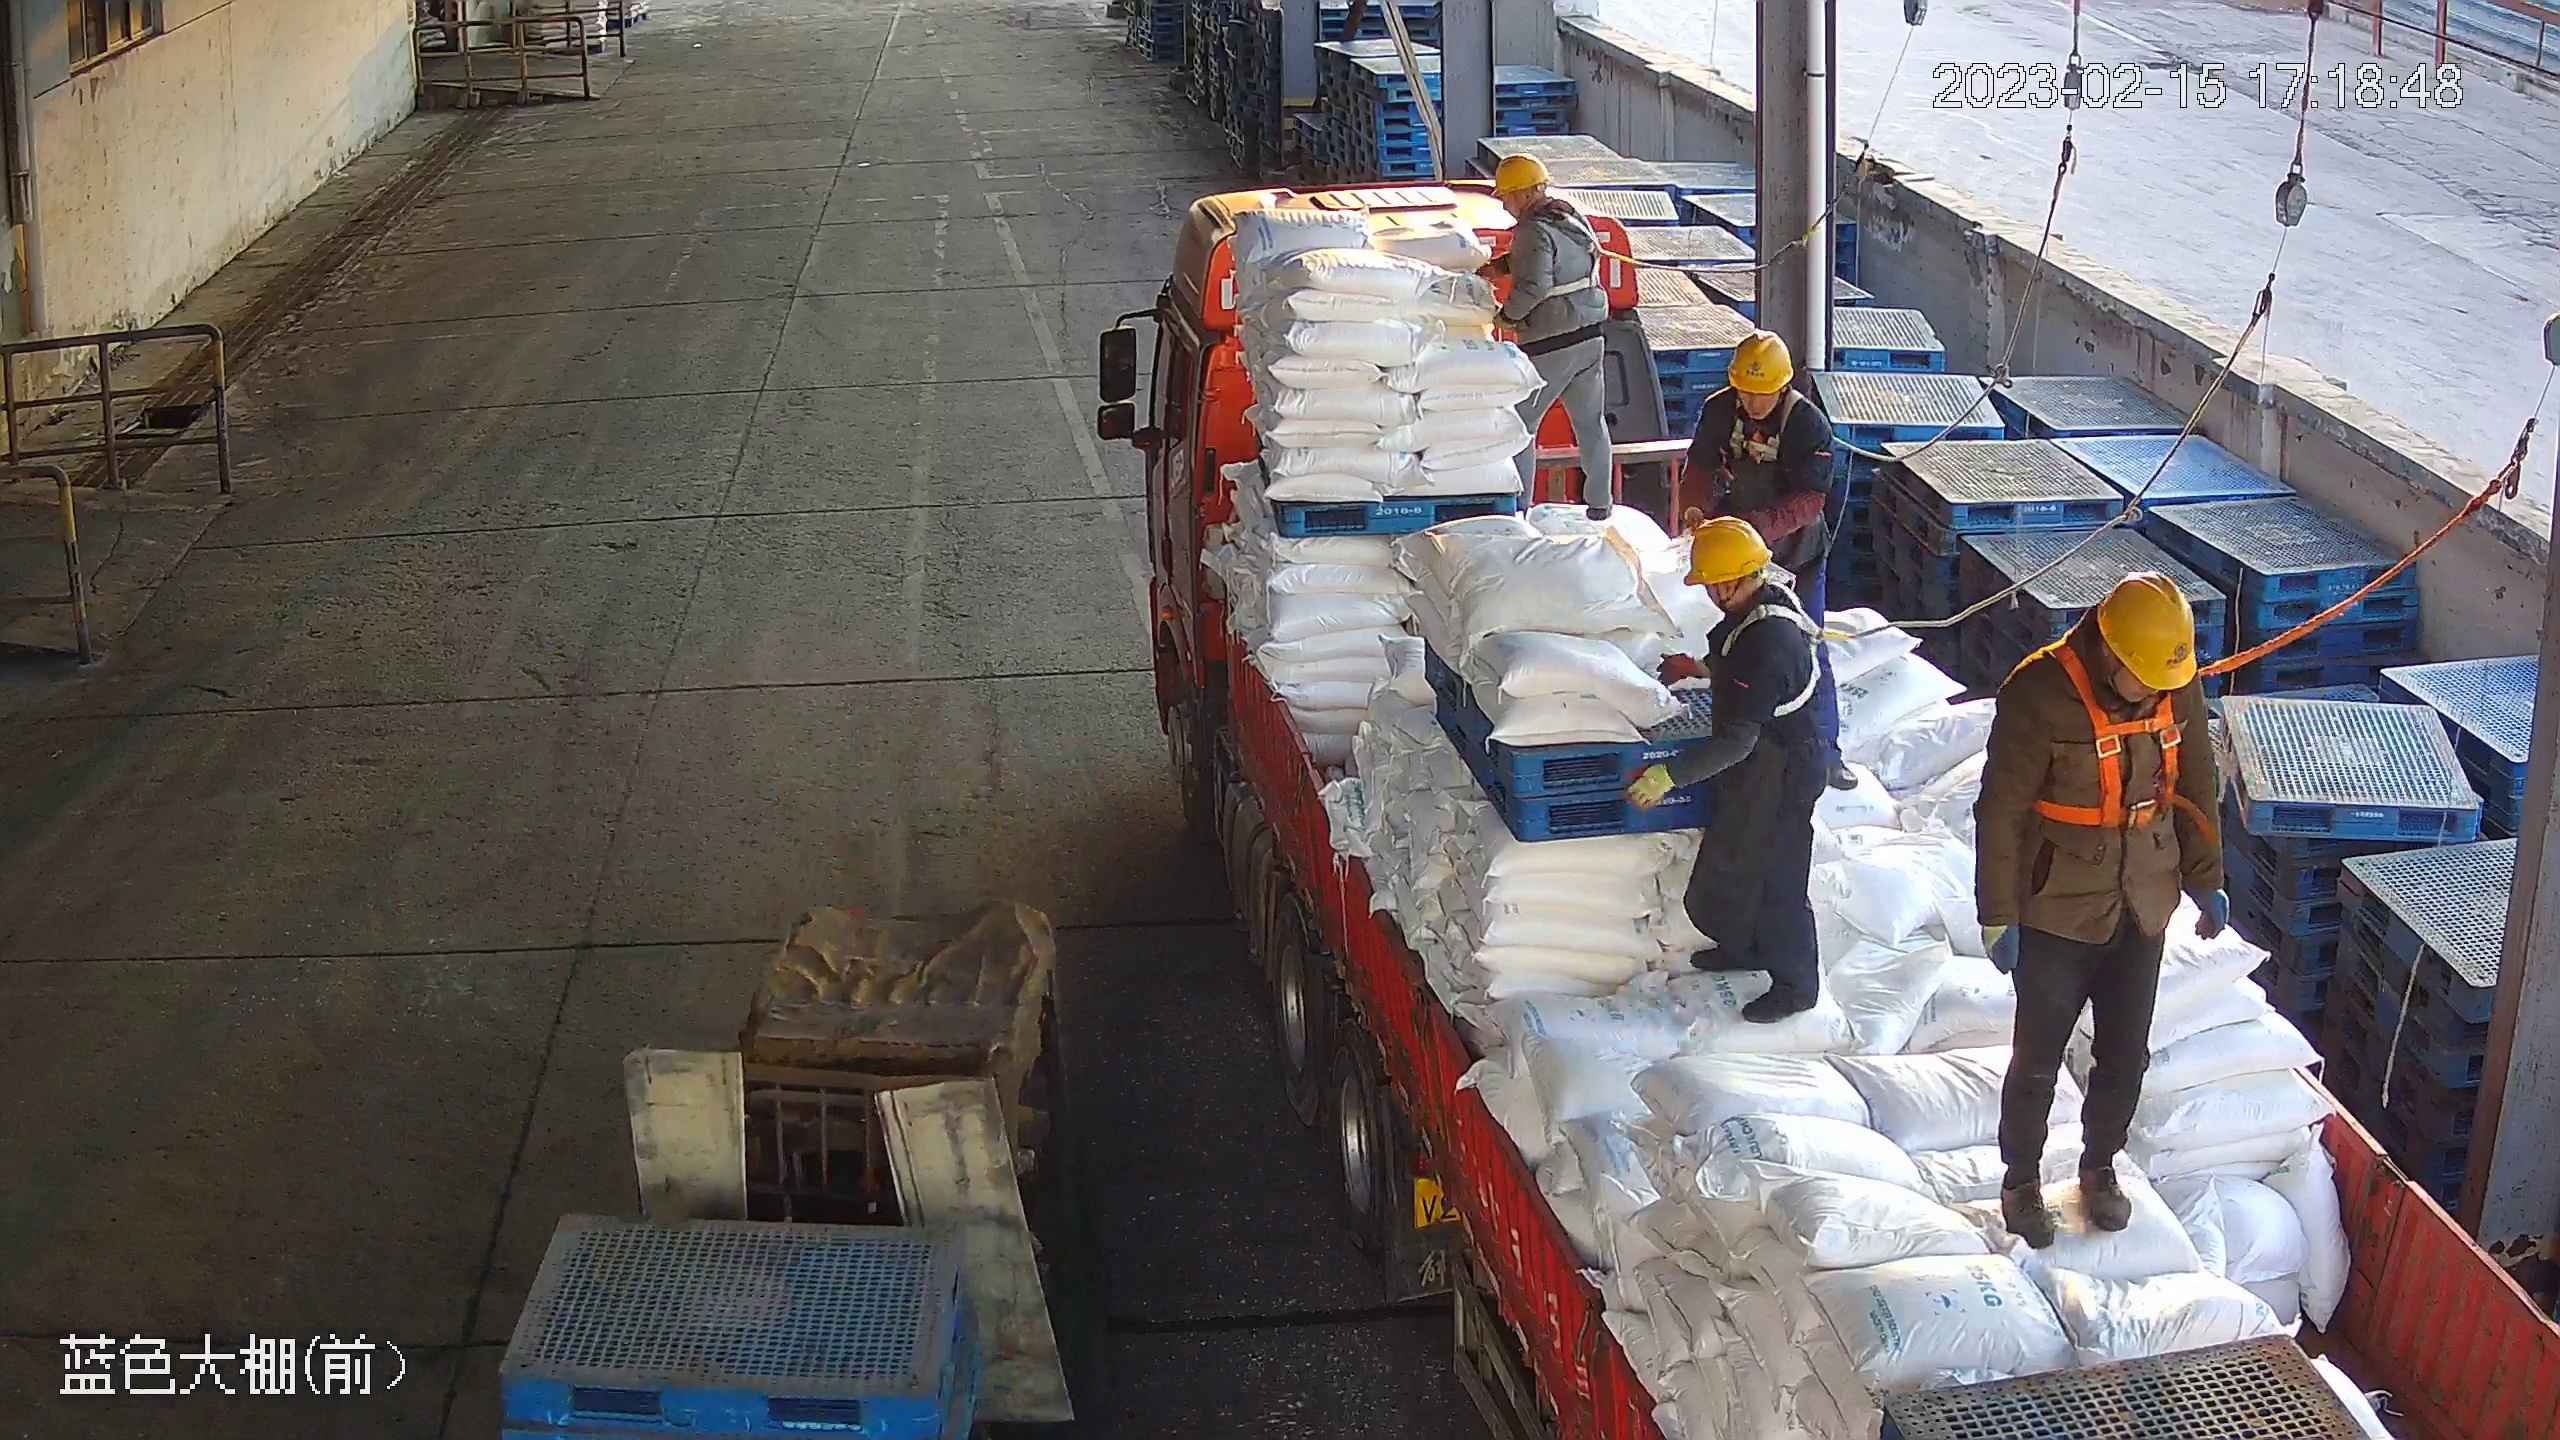belt: (2031, 643, 2235, 838), (1719, 588, 1863, 711), (1719, 388, 1846, 480), (1516, 205, 1637, 300)
head: (1988, 570, 2215, 710), (1682, 513, 1836, 673), (1695, 326, 1836, 435), (1485, 153, 1598, 251)
helmet: (2091, 569, 2198, 692), (1681, 514, 1775, 587), (1726, 327, 1796, 395), (1491, 152, 1550, 200)
people: (1969, 569, 2235, 1251), (1624, 519, 1863, 1027), (1669, 328, 1862, 793), (1474, 154, 1626, 523)
truck: (1142, 175, 2560, 1440)
